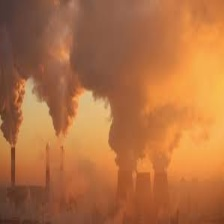smoke: (1, 1, 202, 172)
